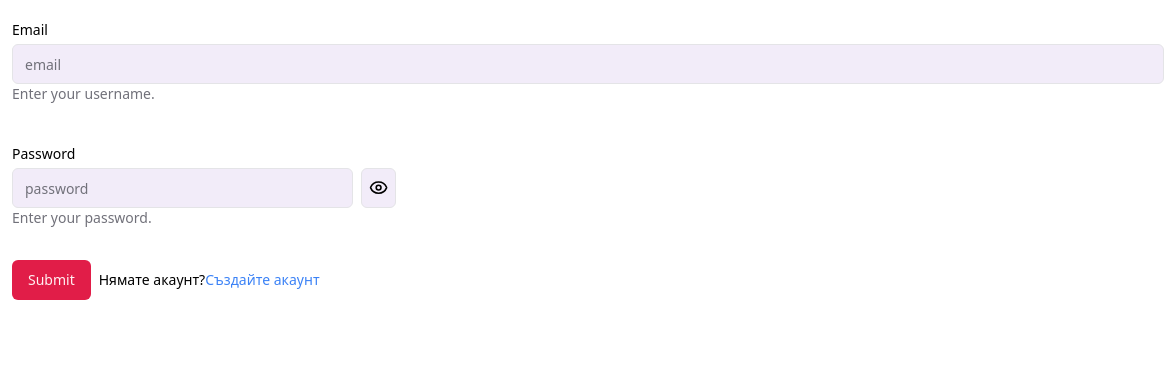
Test: LoginForm Component › shows error message when login fails
Step 1. Type "test@example.com" into the field labelled "Email" → (588, 64), box [12,44,1164,84]
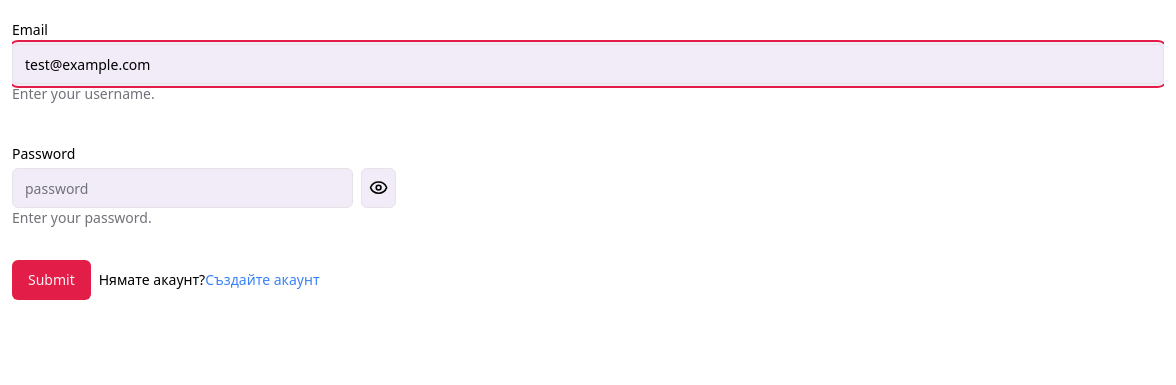
Step 2. Type "password123" into the password field with placeholder "password" → (182, 188), box [12,168,353,208]
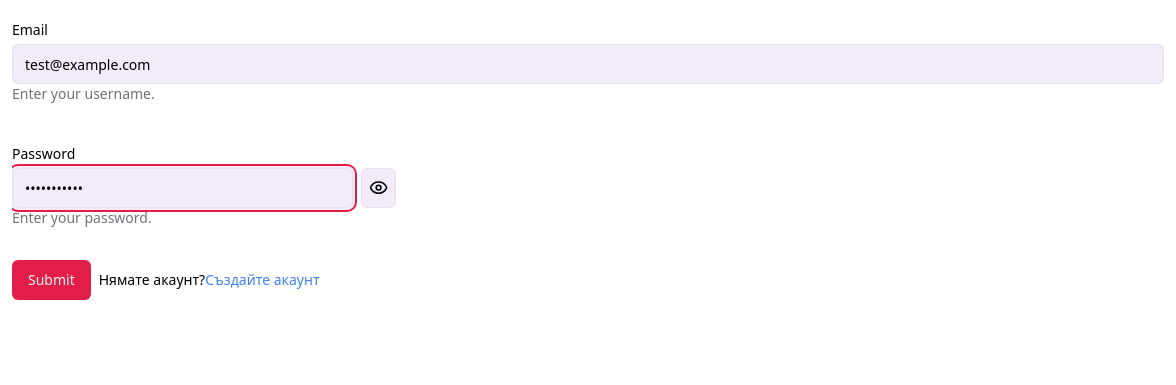
Step 3. Click the button "Submit" → (51, 280), box [12,260,91,300]
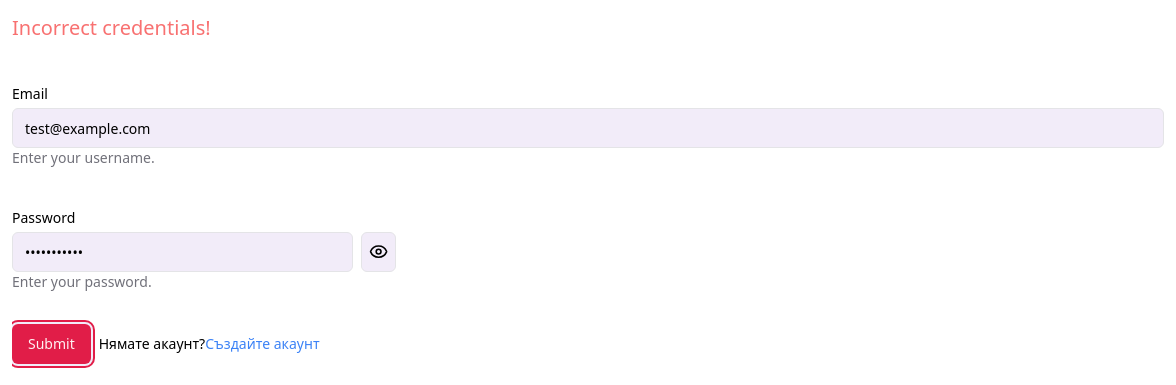
Check: the text "Incorrect credentials!" is shown, box [12,14,211,41]
